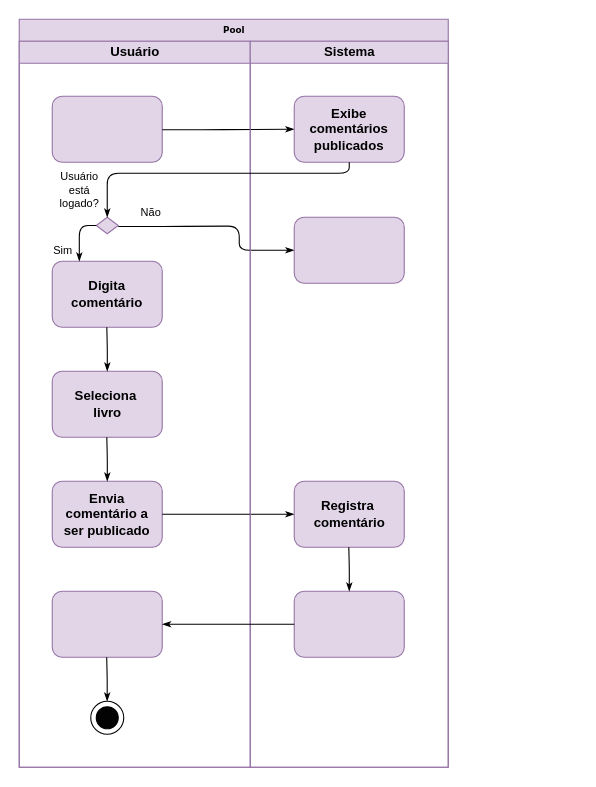
Some shapes in this 596 by 787 pixel diagram are drawn without their labels. Each missing label, with the centre of its shape:
"Acessa o Fórum através da navbar" goes at (x=106, y=128).
"Redireciona para o login" goes at (x=348, y=249).
"Renderiza comentário" goes at (x=348, y=623).
"Visualiza seu comentário no fórum" goes at (x=106, y=623).
